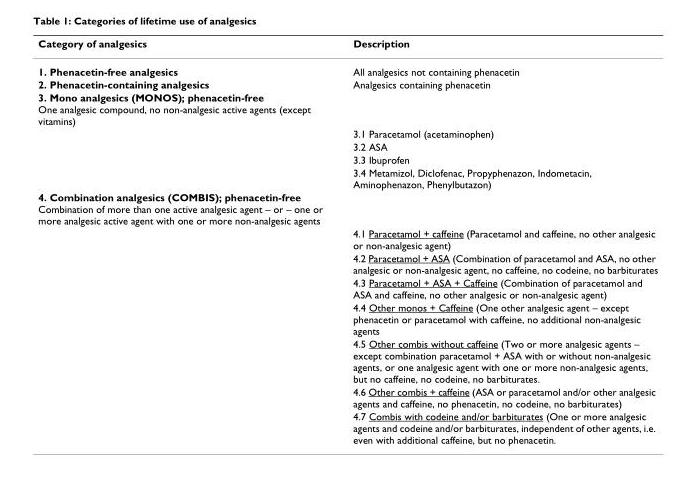table: (37, 36, 657, 445)
table column: (337, 36, 657, 445), (37, 36, 337, 445)
table column header: (37, 36, 657, 56)
table projected row header: (37, 90, 657, 126), (37, 190, 657, 226)
table row: (37, 336, 657, 384), (37, 90, 657, 126), (37, 190, 657, 226), (37, 300, 657, 336), (37, 409, 657, 445), (37, 165, 657, 190), (37, 226, 657, 251), (37, 275, 657, 300), (37, 384, 657, 409), (37, 251, 657, 275), (37, 56, 657, 77), (37, 36, 657, 56), (37, 77, 657, 90), (37, 126, 657, 139), (37, 139, 657, 152), (37, 152, 657, 165)
